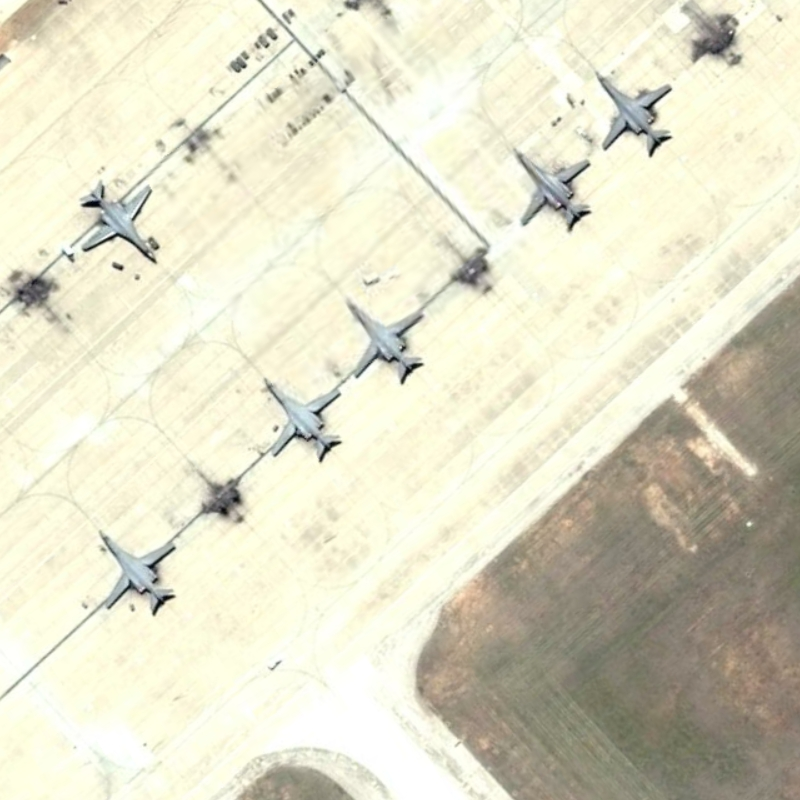A10: (88, 507, 185, 621), (256, 371, 354, 473), (72, 174, 173, 271), (499, 140, 597, 237), (342, 288, 436, 389), (589, 67, 687, 161)
